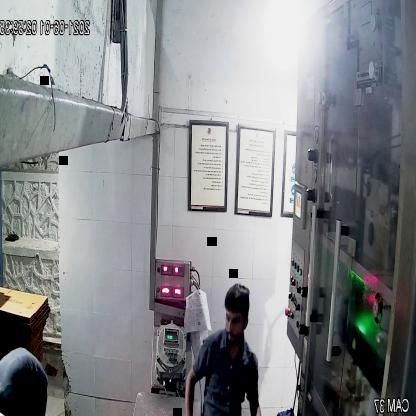no_goggles: (221, 309, 250, 332)
